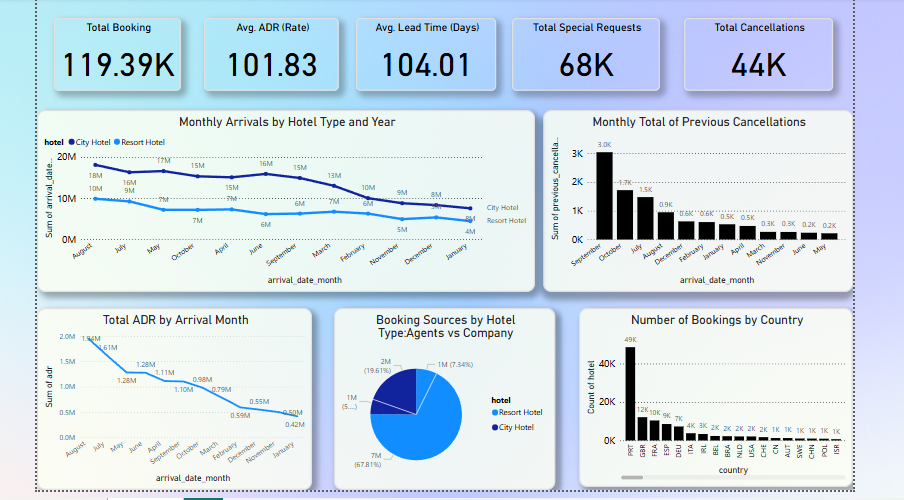

The page's visual inventory and layout, read from the dashboard file:
{"tool":"powerbi","page":{"name":"Page 1","canvas":[1368,825],"ordinal":0},"visuals":[{"type":"card","title":"Avg. Lead Time (Days)","fields":{"Values":["Avg(hotel_booking.lead_time)"]},"box":[556.7,35.2,239.8,105.6],"z":0},{"type":"card","title":"Total Cancellations","fields":{"Values":["Sum(hotel_booking.is_canceled)"]},"box":[1108.4,35.2,228,105.6],"z":1000},{"type":"columnChart","title":"Number of Bookings by Country","fields":{"Y":["CountNonNull(hotel_booking.hotel)"],"Category":["hotel_booking.country"]},"box":[908.8,519.8,459.5,300.2],"z":2000},{"type":"columnChart","title":"Monthly Total of Previous Cancellations","fields":{"Category":["hotel_booking.arrival_date_month"],"Y":["Sum(hotel_booking.previous_cancellations)"]},"box":[848.5,187.8,519.8,305.2],"z":3000},{"type":"lineChart","title":"Monthly Arrivals by Hotel Type and Year","fields":{"Y":["Sum(hotel_booking.arrival_date_year)"],"Series":["hotel_booking.hotel"],"Category":["hotel_booking.arrival_date_month"]},"box":[0,187.8,835.1,305.2],"z":4000},{"type":"pieChart","title":"Booking Sources by Hotel Type:Agents vs Company","fields":{"Y":["Sum(hotel_booking.company)","Sum(hotel_booking.agent)"],"Category":["hotel_booking.hotel"]},"box":[498,519.8,370.6,305.2],"z":5000},{"type":"card","title":"Total Booking","fields":{"Values":["CountNonNull(hotel_booking.arrival_date_year)"]},"box":[30.2,36.9,236.4,104],"z":6000},{"type":"card","title":"Avg. ADR (Rate)","fields":{"Values":["Avg(hotel_booking.adr)"]},"box":[298.5,35.2,236.4,105.6],"z":7000},{"type":"card","title":"Total Special Requests","fields":{"Values":["Sum(hotel_booking.total_of_special_requests)"]},"box":[835.1,35.2,231.4,105.6],"z":8000},{"type":"lineChart","title":"Total ADR by Arrival Month","fields":{"Y":["Sum(hotel_booking.adr)"],"Category":["hotel_booking.arrival_date_month"]},"box":[0,519.8,461.1,305.2],"z":9000}]}

Visuals, with their boxes in screenshot pixels (x1, y1, x2, y2):
"Avg. Lead Time (Days)" card: 365:19:508:82
"Total Cancellations" card: 694:19:830:82
"Number of Bookings by Country" columnChart: 575:308:849:487
"Monthly Total of Previous Cancellations" columnChart: 539:110:849:292
"Monthly Arrivals by Hotel Type and Year" lineChart: 33:110:531:292
"Booking Sources by Hotel Type:Agents vs Company" pieChart: 330:308:551:490
"Total Booking" card: 51:20:192:82
"Avg. ADR (Rate)" card: 211:19:352:82
"Total Special Requests" card: 531:19:669:82
"Total ADR by Arrival Month" lineChart: 33:308:308:490
